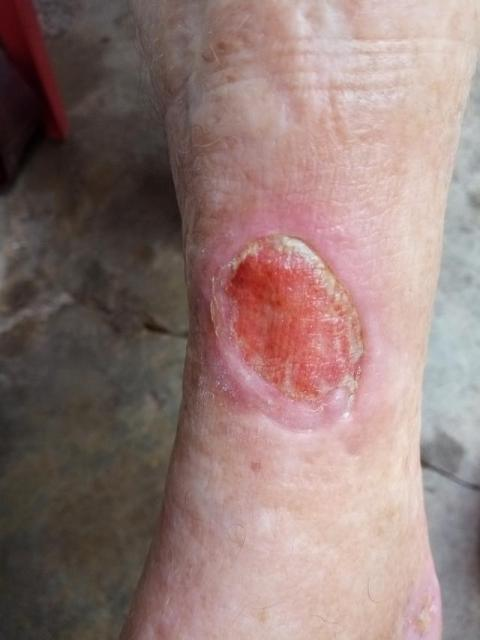wound: (207, 230, 366, 434)
